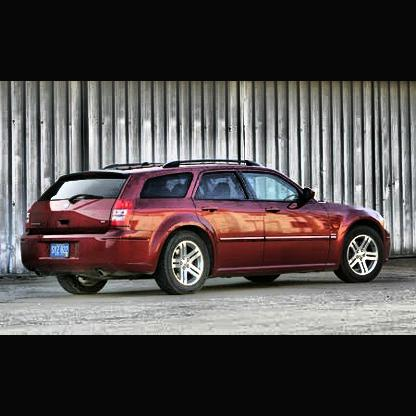Dodge Magnum Wagon 2008: (20, 159, 390, 294)
